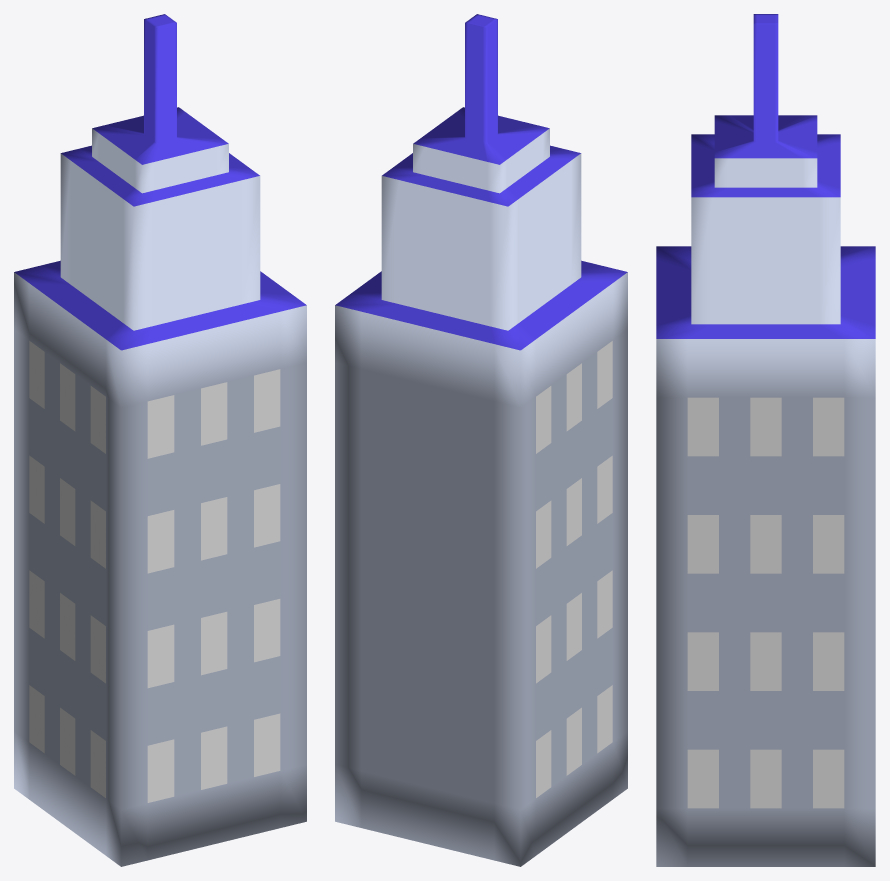
The model's file is edificio_1.glb.
The picture shows the model from 3 angles, left to right: view 1: azimuth 30°, elevation 25°; view 2: azimuth 150°, elevation 25°; view 3: azimuth 270°, elevation 25°; orthographic projection. The views are drawn at different scales.
Parts seen in each view (by area): view 1: edificio_1; view 2: edificio_1; view 3: edificio_1.
Part boxes in pixels (x1,y1,x2,y2): edificio_1: (14,14,306,866); edificio_1: (335,14,627,866); edificio_1: (656,14,875,866).
Bounding box in the file's own units: 4 × 16.14 × 4.
